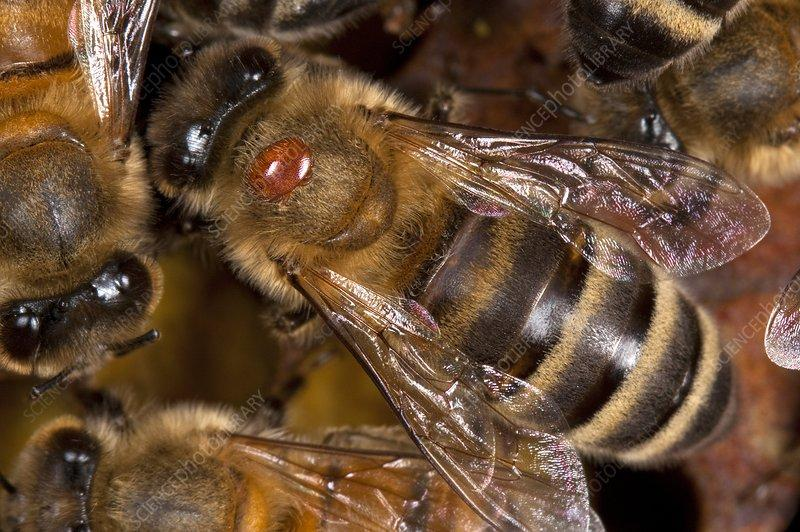worker-bee: (146, 32, 768, 529), (0, 398, 490, 531), (0, 0, 161, 383), (566, 0, 738, 85)
